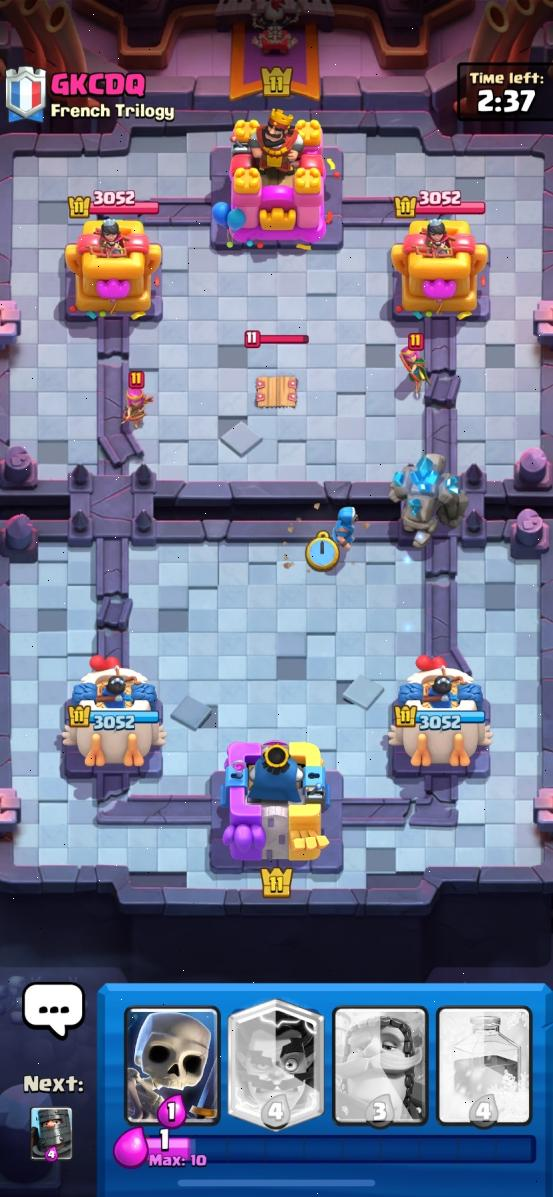EArcher: (120, 369, 153, 429), (400, 334, 430, 397)
EKingTower: (212, 110, 339, 248)
ETesla: (255, 375, 297, 408)
EnemyPrincessTower: (391, 220, 488, 319), (65, 220, 161, 318)
OGolem: (390, 453, 467, 547)
OWizard: (332, 506, 357, 552)
OwnKingTower: (223, 742, 329, 861)
OwnPrincessTower: (388, 655, 490, 771), (63, 656, 165, 768)
